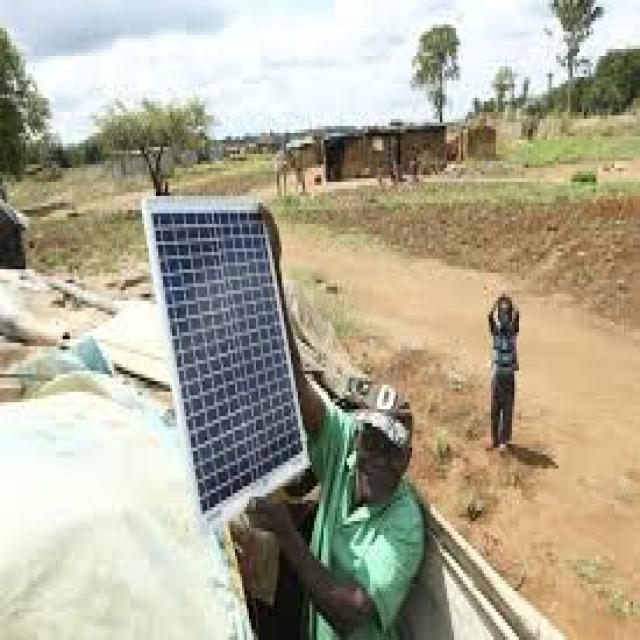no faulty: (151, 213, 303, 513)
